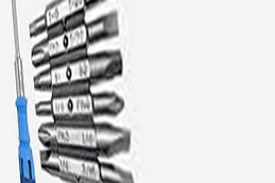Screwdriver: (6, 1, 45, 183)
